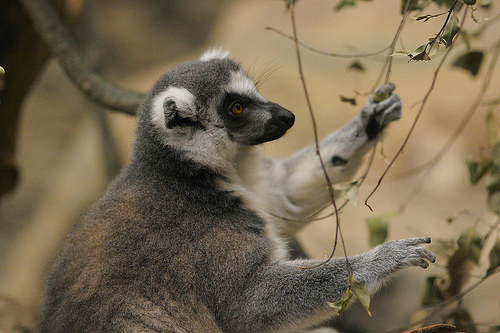cat: (33, 45, 440, 332)
